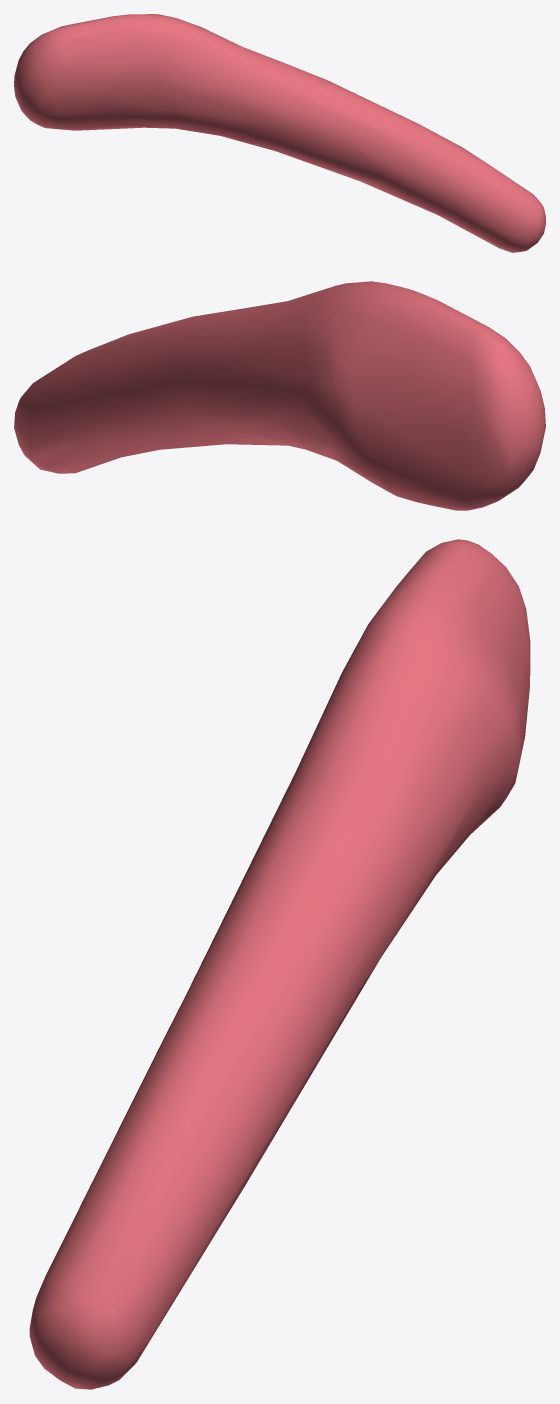
Rendered from fma50306_fj6024.glb.
3 views of the same model, one above another, from view 1: azimuth 30°, elevation 25°; view 2: azimuth 150°, elevation 25°; view 3: azimuth 270°, elevation 25° (orthographic). The views are drawn at different scales.
Visible parts, largest first — view 1: FMA50306_FJ6024; view 2: FMA50306_FJ6024; view 3: FMA50306_FJ6024.
Boxes of the visible parts, <box> form: FMA50306_FJ6024: <box>14,14,545,252</box>; FMA50306_FJ6024: <box>14,281,545,510</box>; FMA50306_FJ6024: <box>29,539,530,1389</box>.
Bounding box in the file's own units: 0.0401 × 0.0222 × 0.0203.
